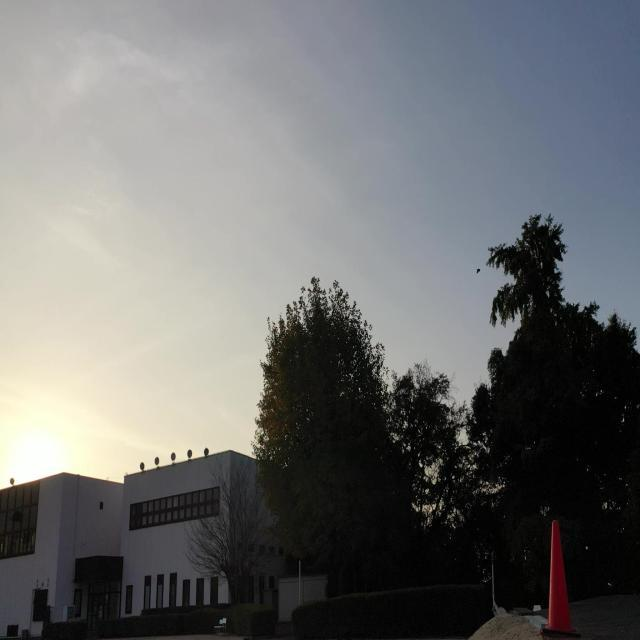Birds: (472, 260, 486, 278)
